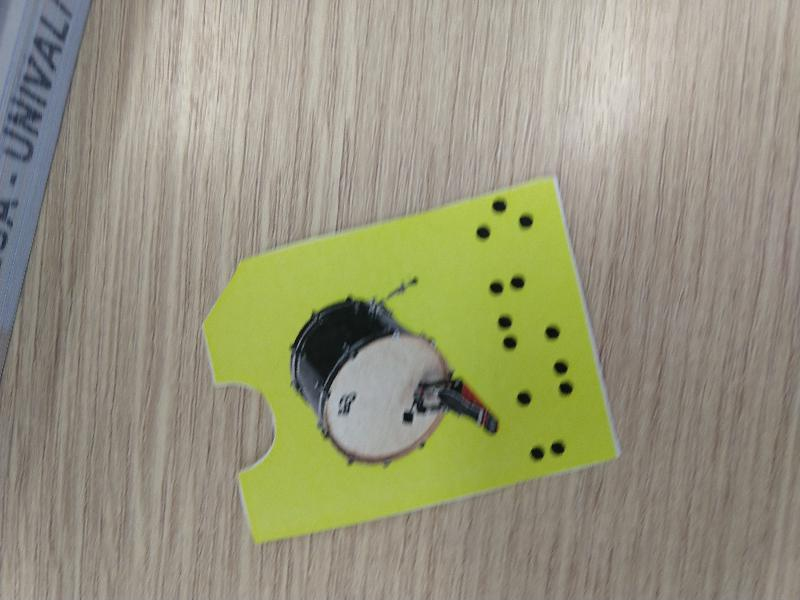bumbo: (197, 174, 621, 550)
